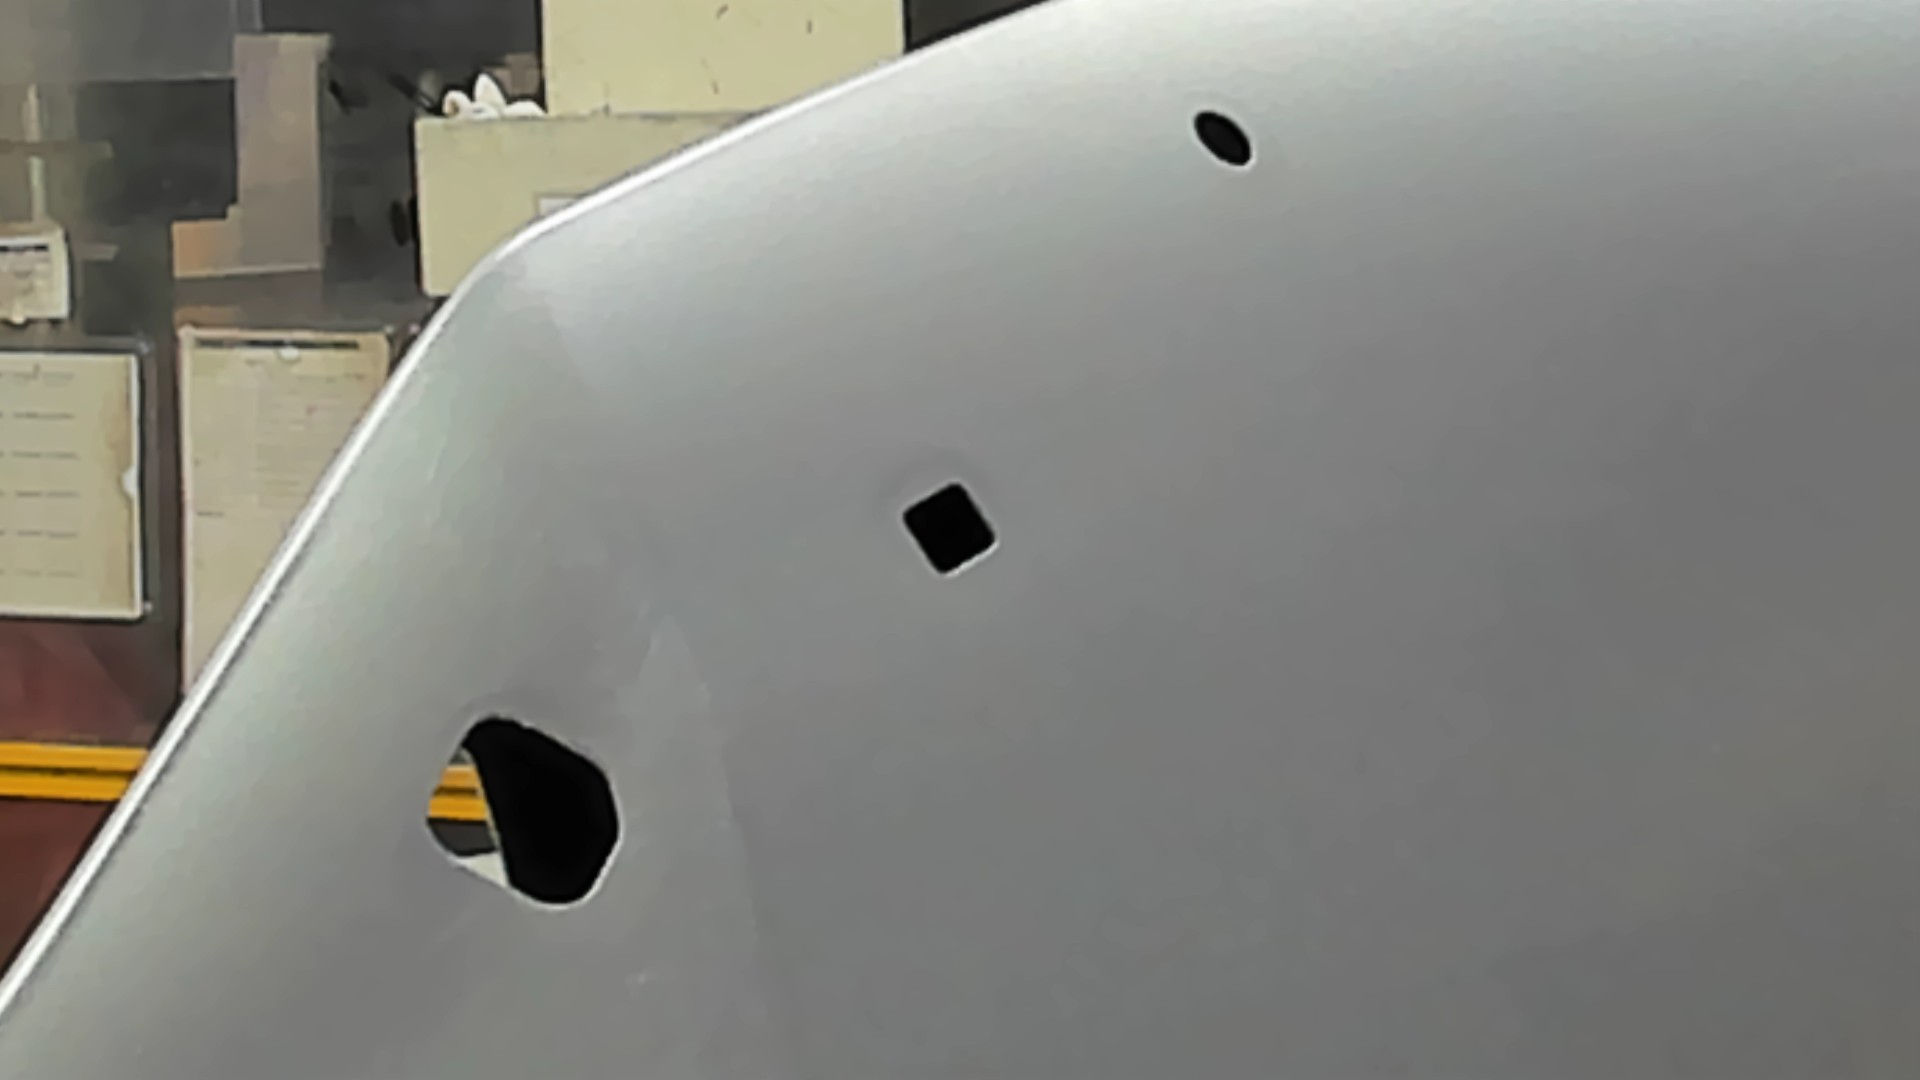capo: (1006, 174, 1920, 1080)
chico: (1185, 104, 1257, 177)
grande: (418, 709, 630, 916)
mediano: (891, 476, 1007, 585)
